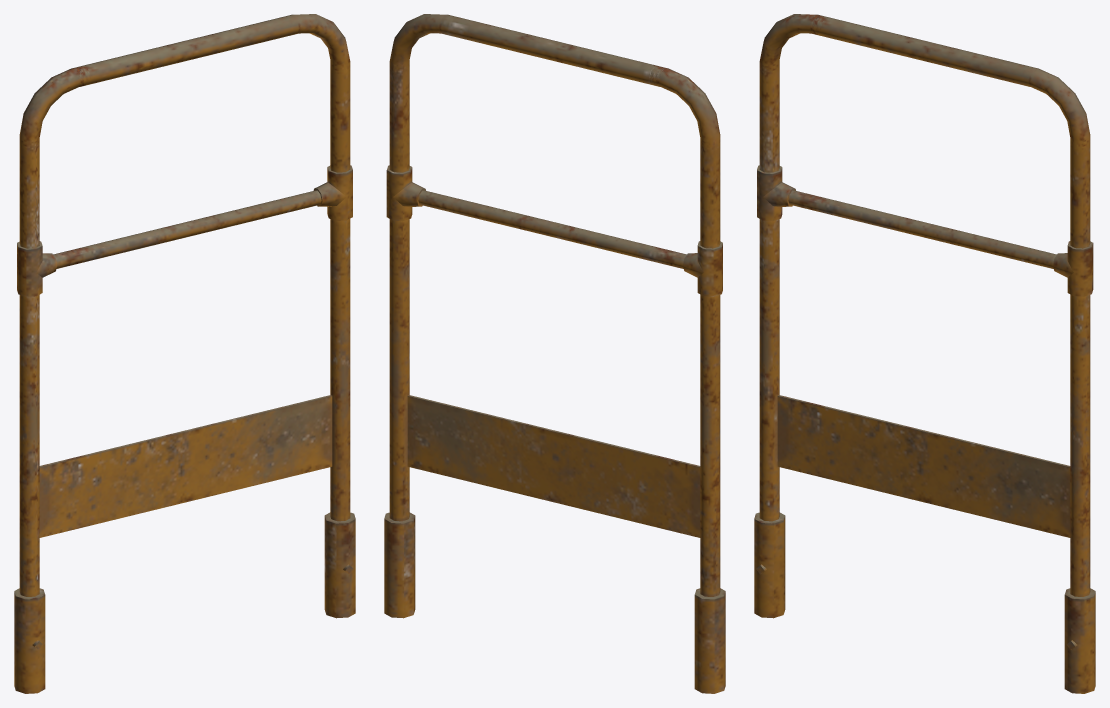
The model's file is Railing01c.fbx.
3 views of the same model, side by side, from view 1: azimuth 30°, elevation 25°; view 2: azimuth 150°, elevation 25°; view 3: azimuth 330°, elevation 25° (orthographic).
Parts seen in each view (by area): view 1: Railing01c_LOD0; view 2: Railing01c_LOD0; view 3: Railing01c_LOD0.
Part boxes in pixels (<box>): Railing01c_LOD0: <box>14,14,355,693</box>; Railing01c_LOD0: <box>384,14,725,693</box>; Railing01c_LOD0: <box>754,14,1095,693</box>.
Size of what is drawn, in the model's own units: 75 by 129 by 6.66.
